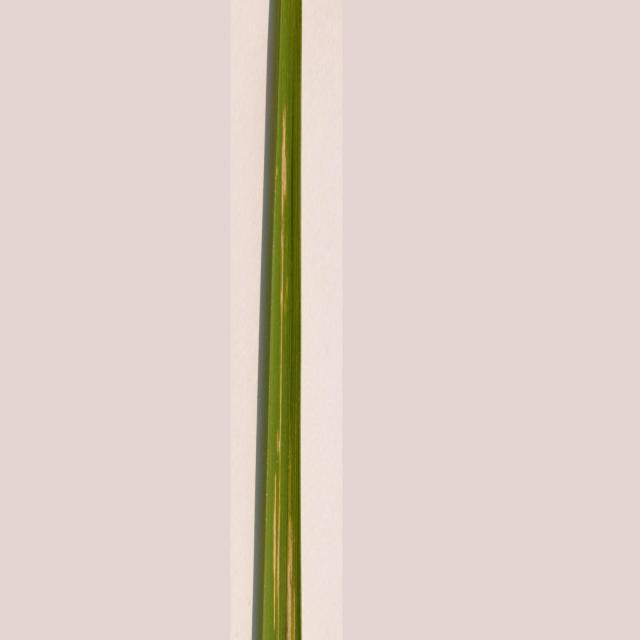leaf blight: (252, 102, 311, 639)
